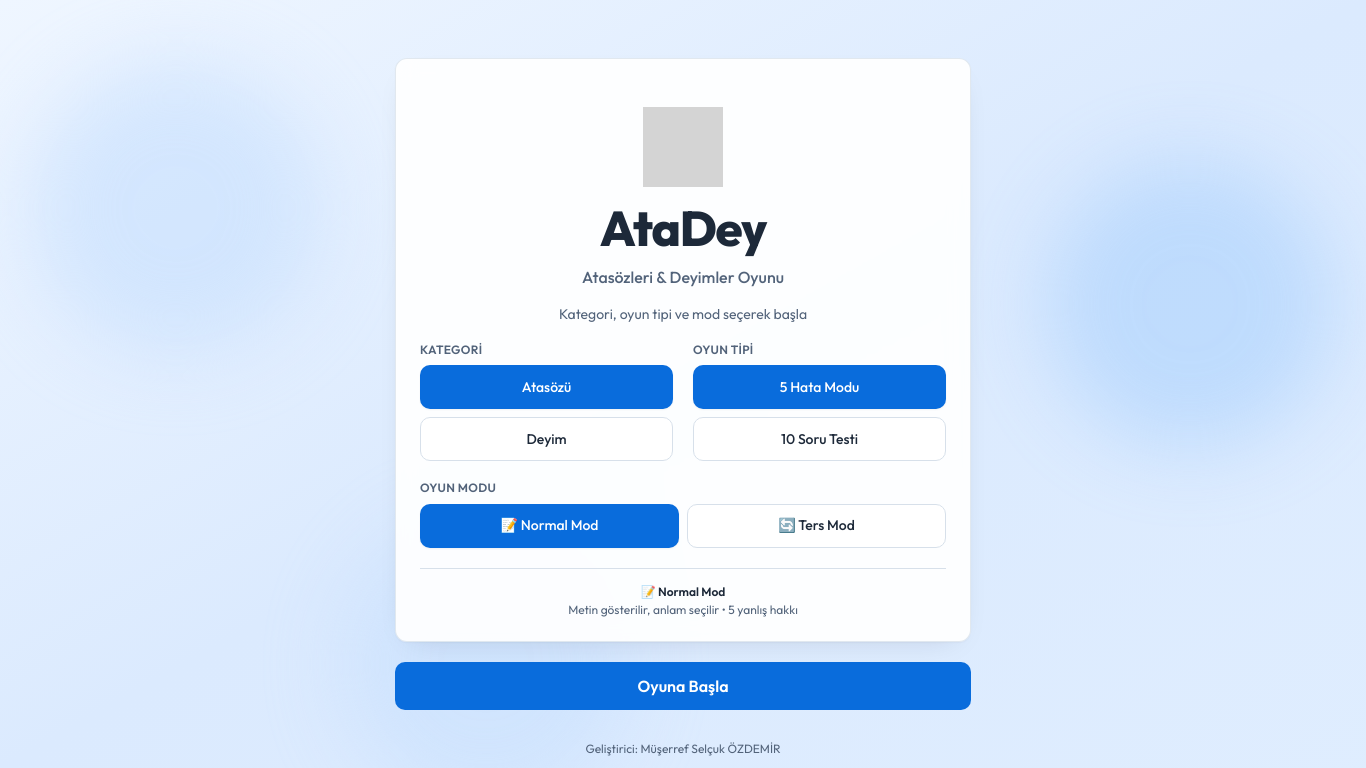
Scenario: App Integration Tests › Game Flow › should start game when start button is clicked
This screenshot has width=1366, height=768.
Click the button "Oyuna Başla" at (683, 686), box [395, 662, 971, 710]
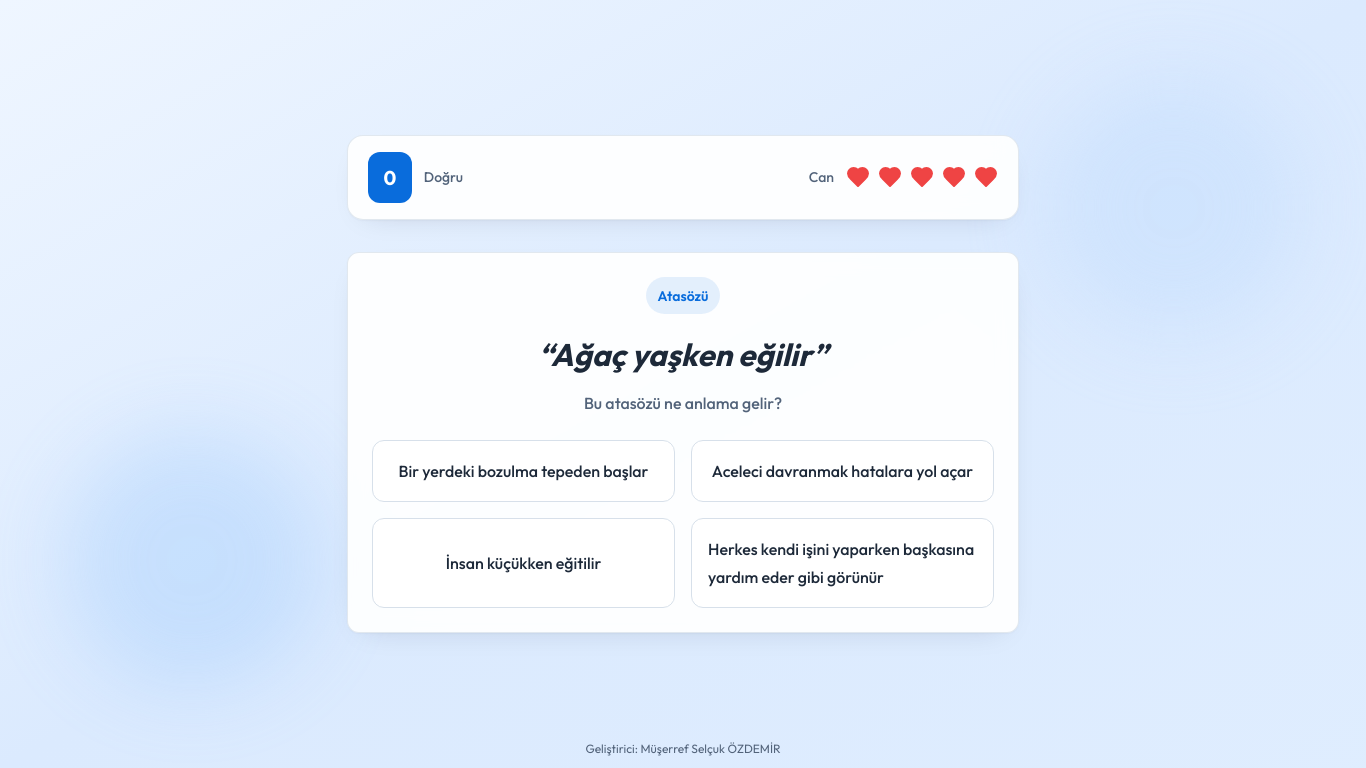
Result: the text "Atasözleri & Deyimler" is gone
